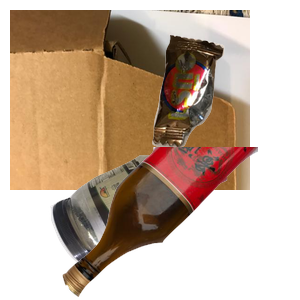cardboard: (10, 10, 250, 190)
glass: (60, 147, 300, 300)
plastic: (48, 152, 228, 300)
trash: (150, 32, 300, 172)
